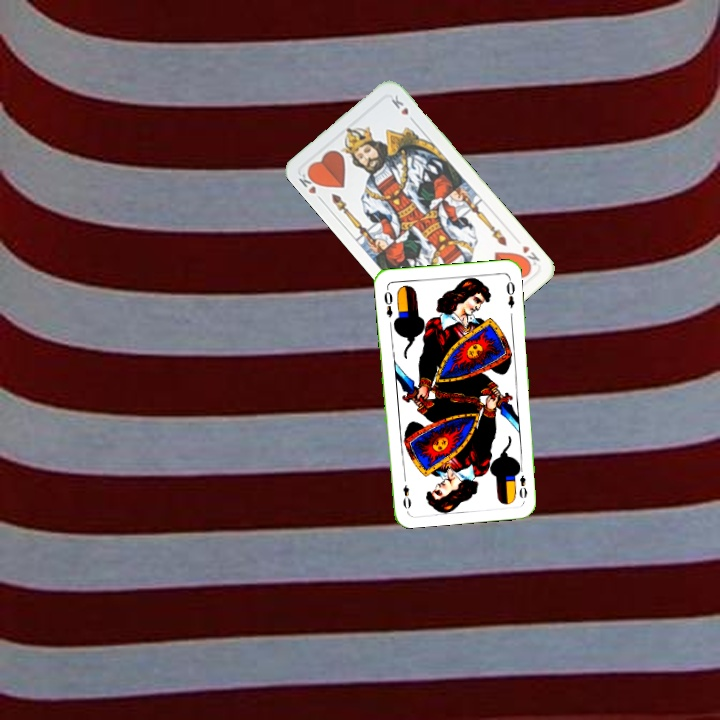EO: (513, 462, 529, 501), (380, 284, 395, 320)
HK: (294, 166, 326, 205), (515, 241, 542, 272)
